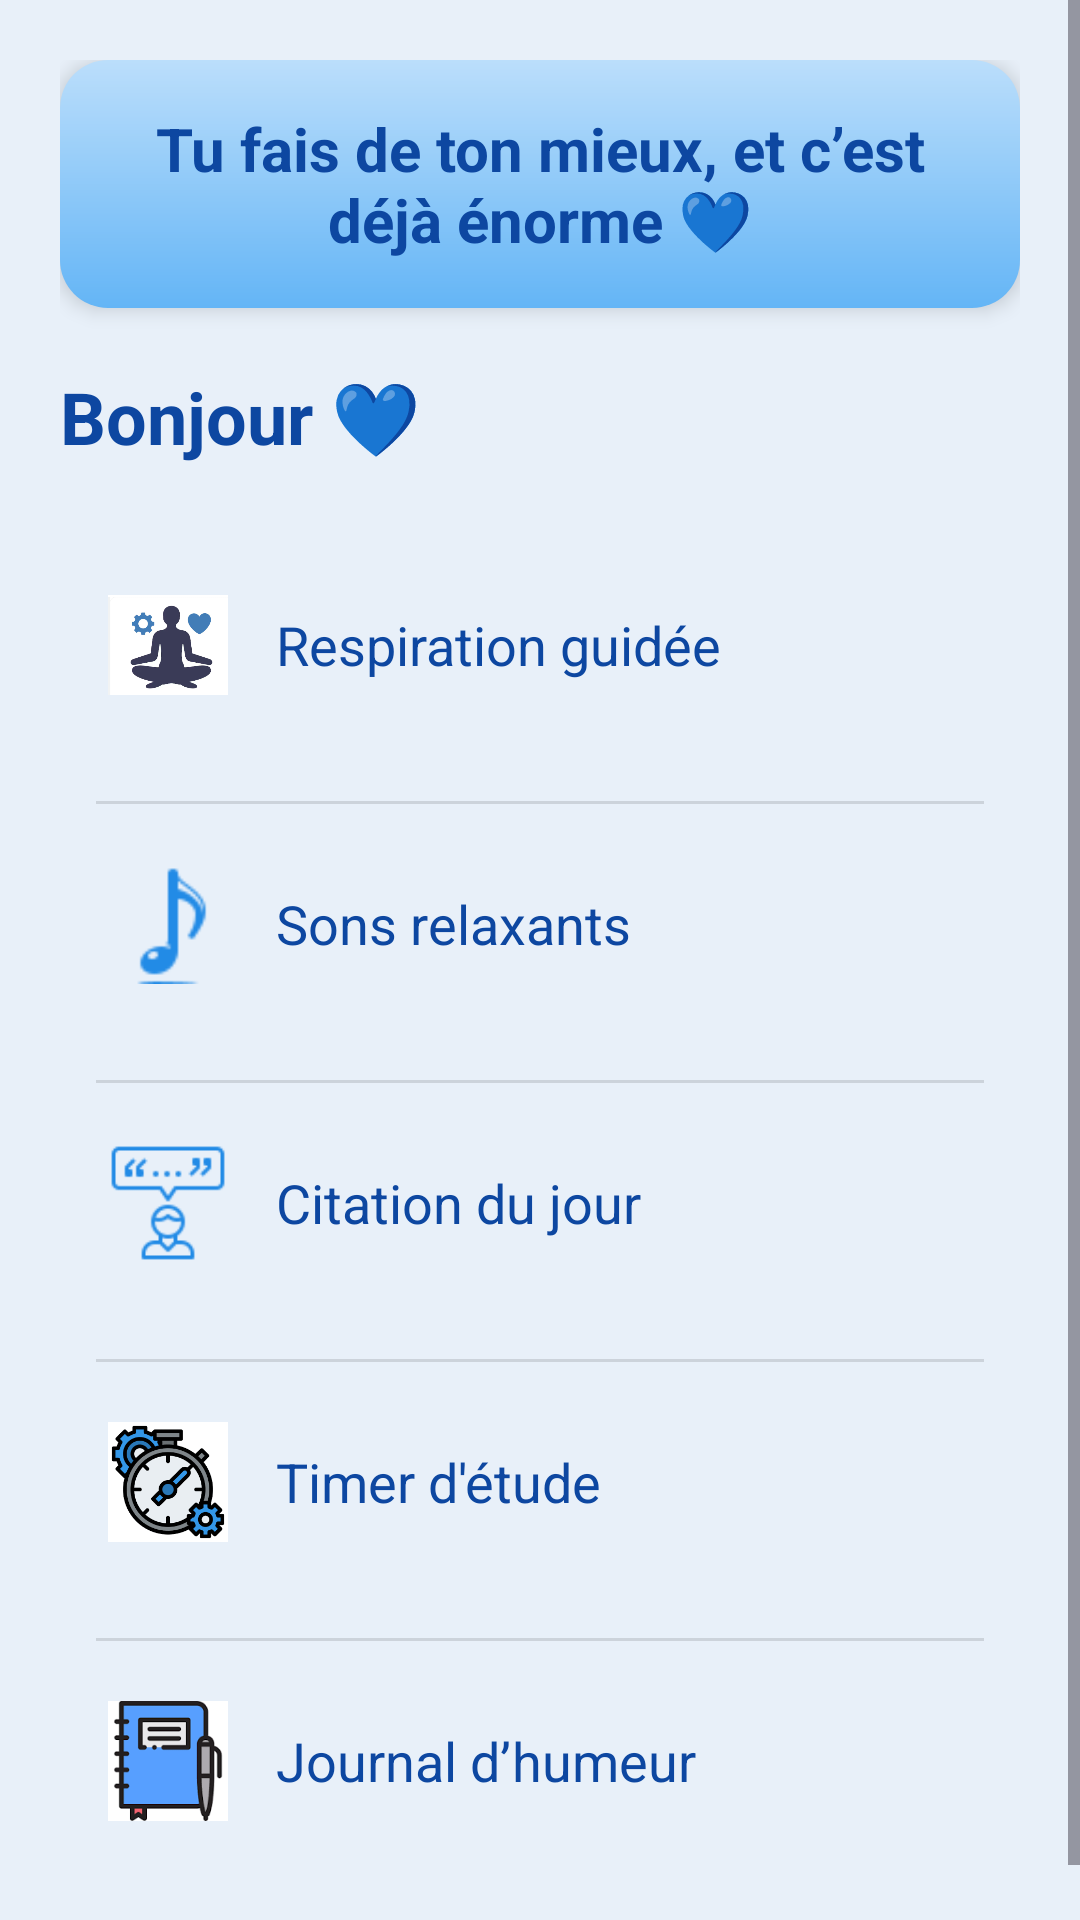

Point at icon controls on the screen. Image size 1080px x 1920px, points as (x=x, y=y).
son: (x=172, y=926)
